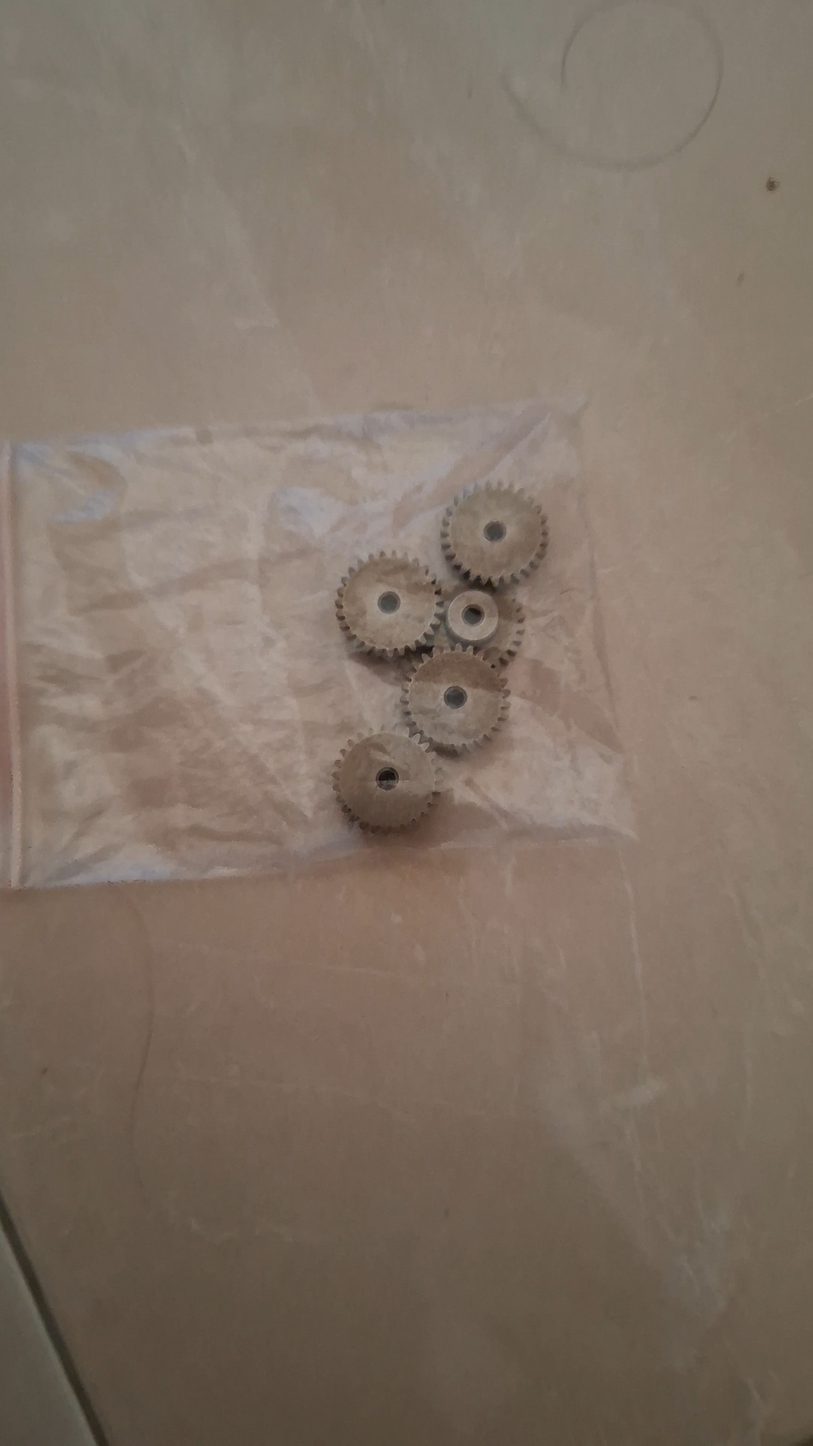spur gear: (402, 645, 509, 752), (336, 552, 442, 659), (441, 482, 548, 585), (333, 731, 436, 830), (435, 583, 524, 664)
